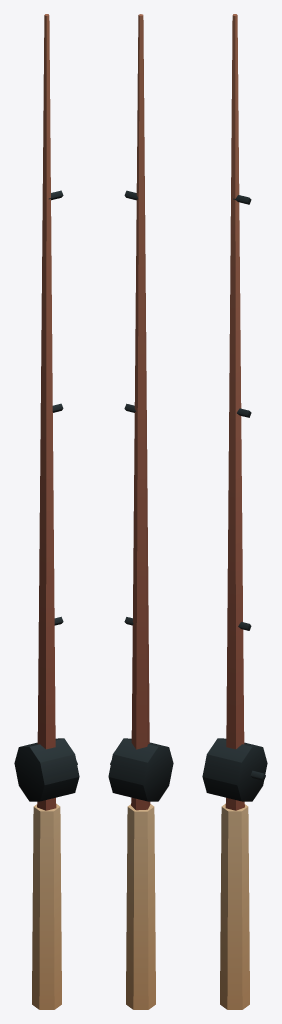
File: fishing_pole.glb
3 views of the same model, side by side, from view 1: azimuth 30°, elevation 25°; view 2: azimuth 150°, elevation 25°; view 3: azimuth 330°, elevation 25° (orthographic).
Visible parts, largest first — view 1: fishing_pole; view 2: fishing_pole; view 3: fishing_pole.
Boxes of the visible parts, x1=… form: fishing_pole: x1=14, y1=14, x2=79, y2=1009; fishing_pole: x1=108, y1=14, x2=173, y2=1009; fishing_pole: x1=202, y1=14, x2=267, y2=1009.
Size of the model in its own units: 0.16 by 3.25 by 0.18.
1 material, 1 textured.
